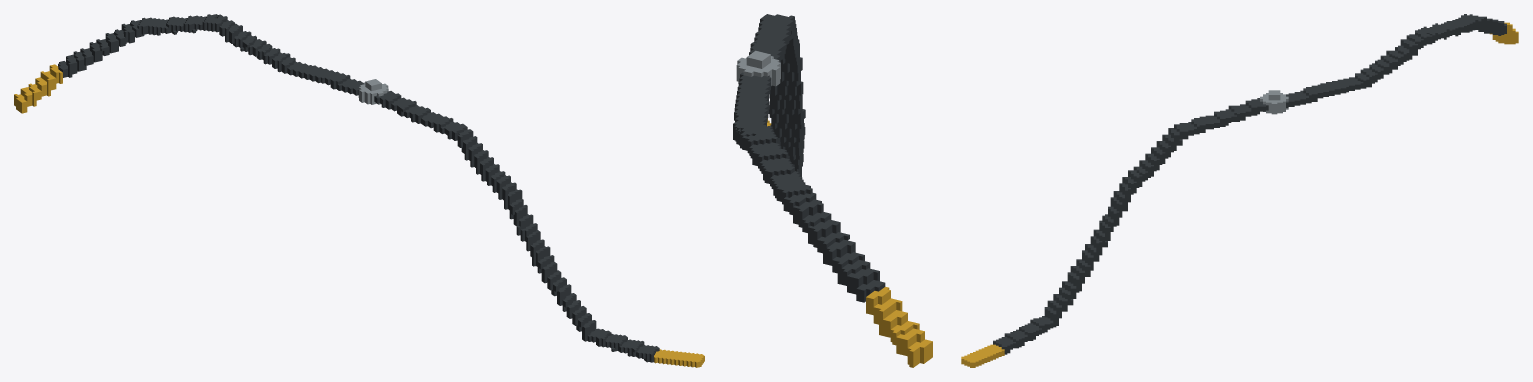
Rendered from crashed_light_helicopter_main_rotor.glb.
The picture shows the model from 3 angles, left to right: view 1: azimuth 30°, elevation 25°; view 2: azimuth 150°, elevation 25°; view 3: azimuth 270°, elevation 25°; orthographic projection. The views are drawn at different scales.
Parts seen in each view (by area): view 1: body:compound; view 2: body:compound; view 3: body:compound.
Boxes of the visible parts, bbox=[...] form: body:compound: bbox=[14, 14, 704, 367]; body:compound: bbox=[733, 14, 932, 367]; body:compound: bbox=[961, 14, 1518, 367].
Size of the model in its own units: 4.88 by 2.62 by 6.06.
